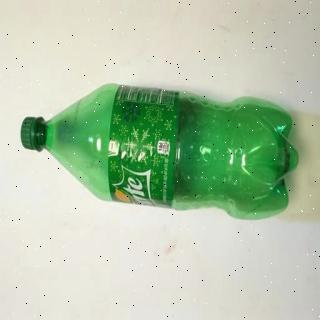Plastic-bottle: (19, 80, 304, 225)
